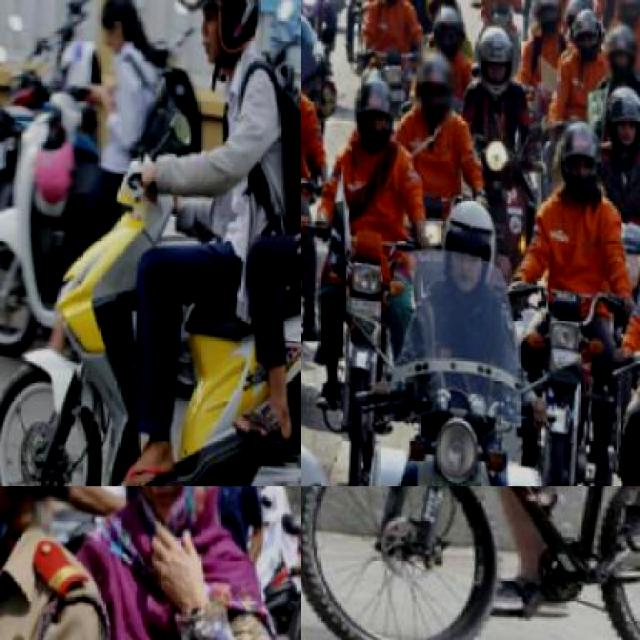With Helmet: (423, 188, 503, 302), (161, 0, 272, 78), (537, 100, 608, 205), (461, 13, 525, 104), (338, 66, 402, 154), (406, 43, 460, 128), (597, 81, 638, 154), (596, 14, 638, 81), (564, 2, 604, 60), (427, 0, 467, 58), (525, 0, 566, 37), (612, 0, 638, 26)
Without Helmet: (111, 486, 232, 540)
